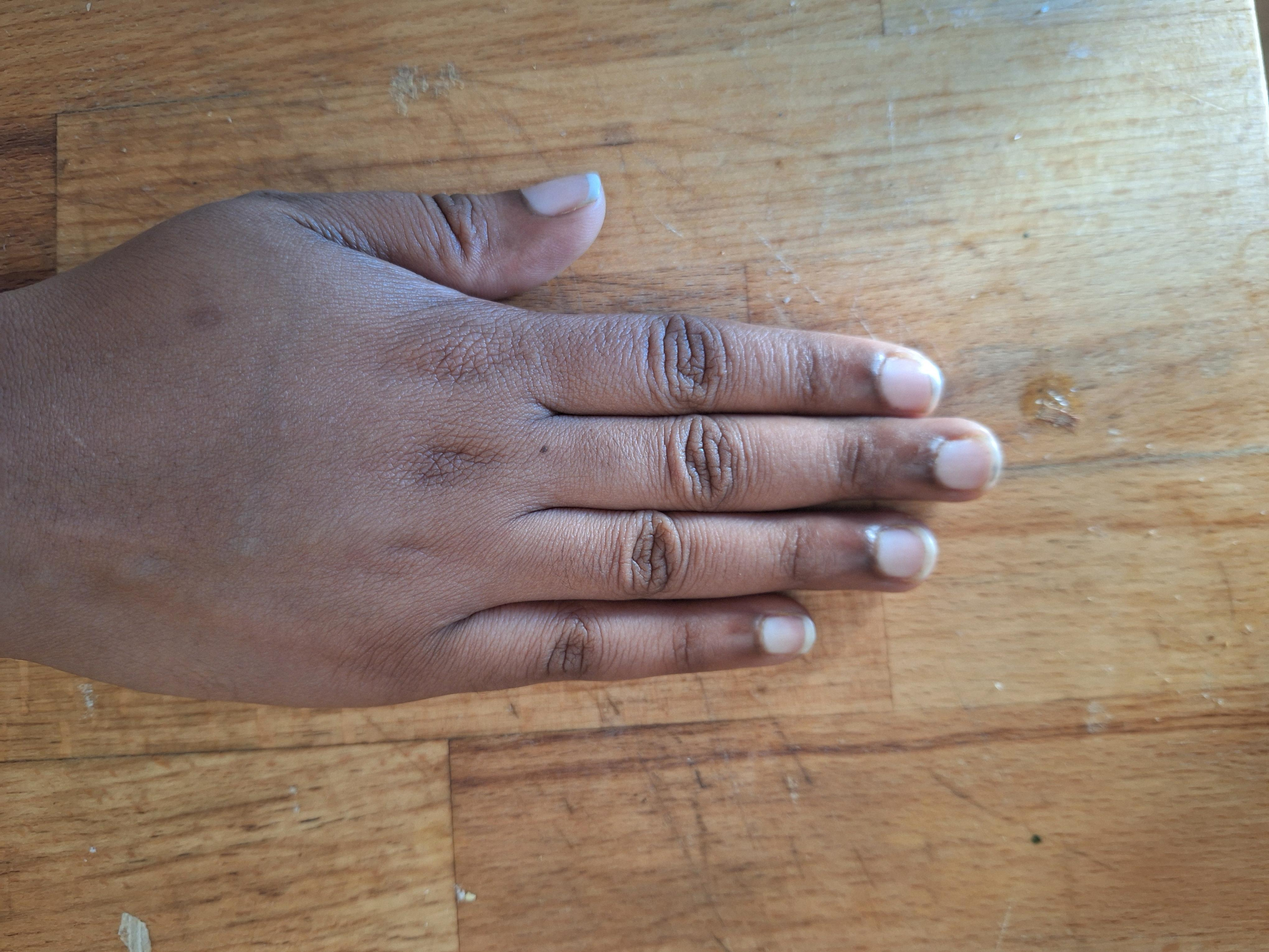Fingernail: (936, 433, 1000, 491), (881, 356, 941, 413), (877, 526, 935, 582), (522, 174, 601, 215), (760, 614, 816, 655)
